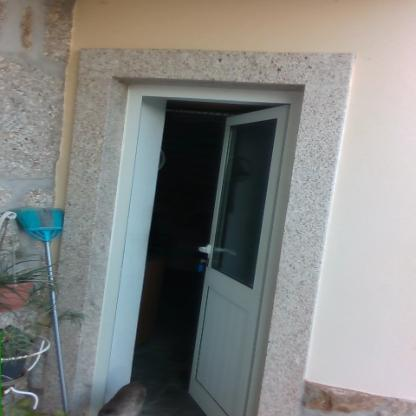semi: (89, 73, 317, 413)
